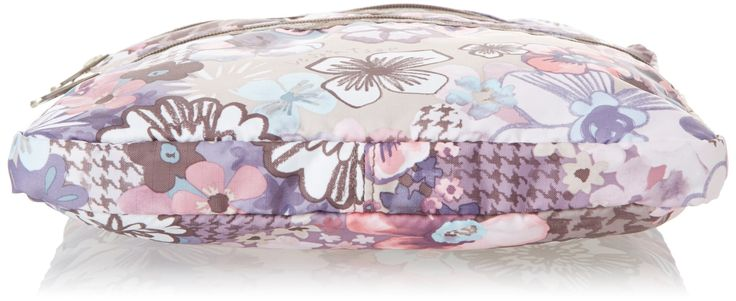nylon: (7, 3, 729, 252)
